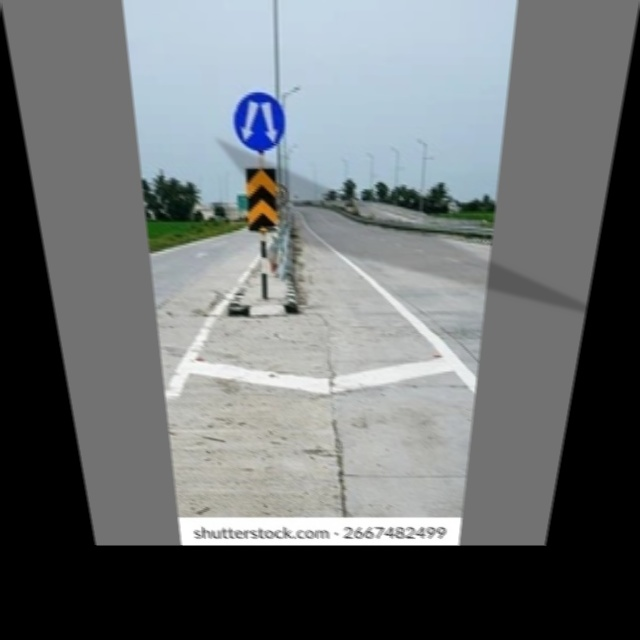Pass_Either_Side: (226, 85, 289, 158)
